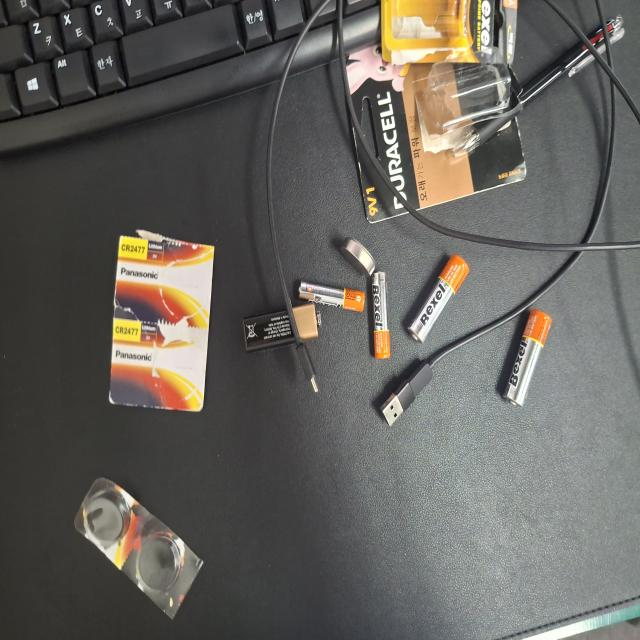9V: (214, 324, 252, 430)
AA: (220, 538, 290, 627)
AAA: (245, 397, 270, 486), (210, 494, 278, 521)
COIN: (272, 455, 303, 501)
